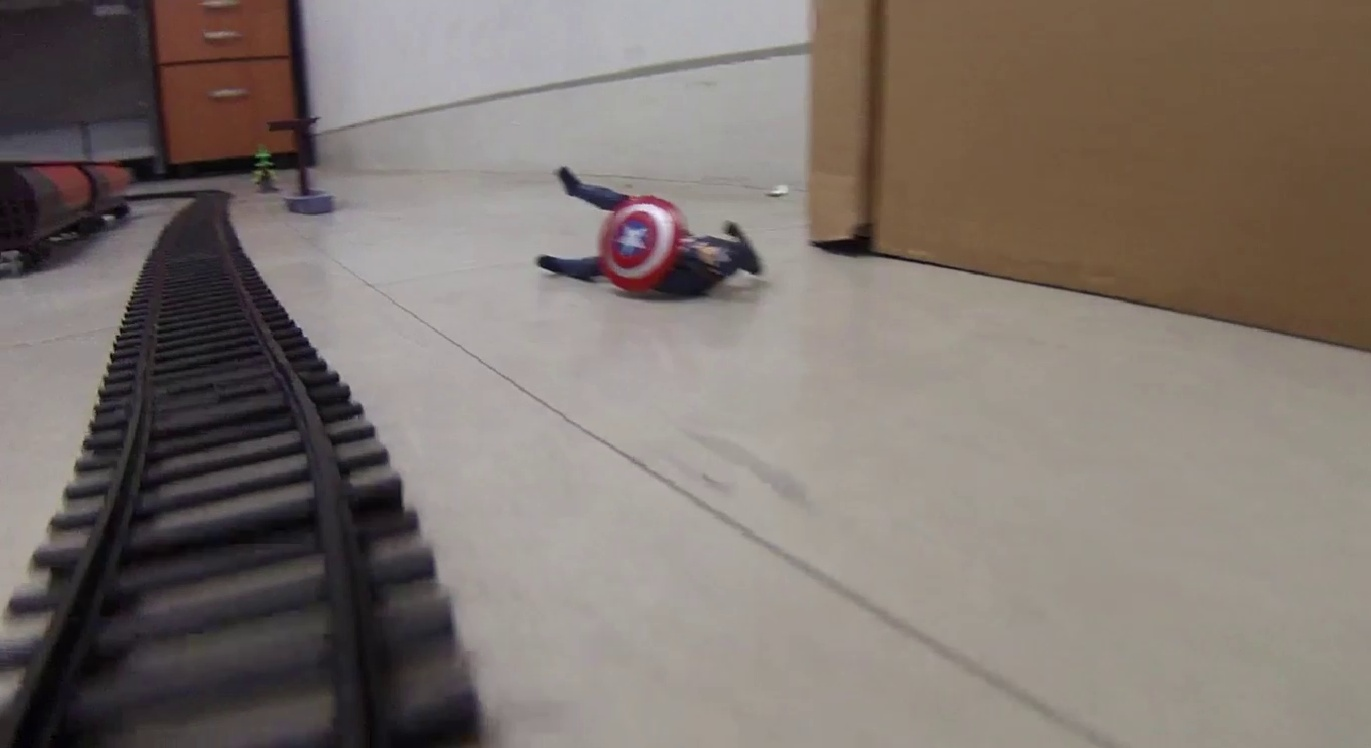people: (538, 165, 765, 304)
